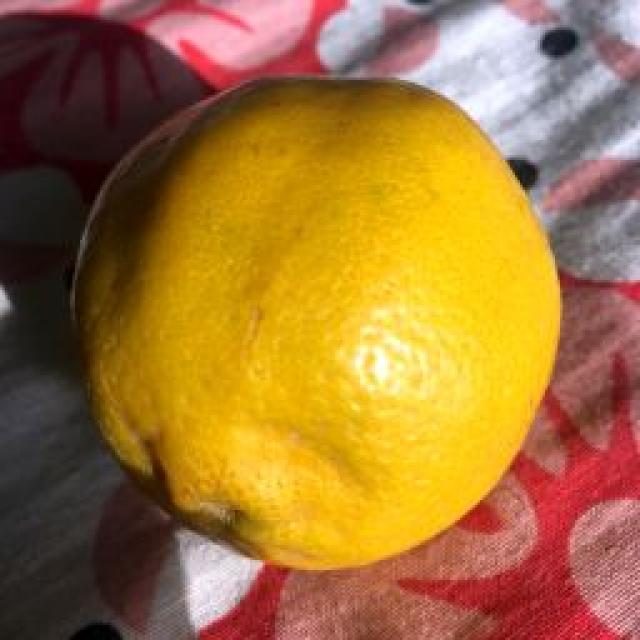Good_Orange: (70, 78, 565, 570)
